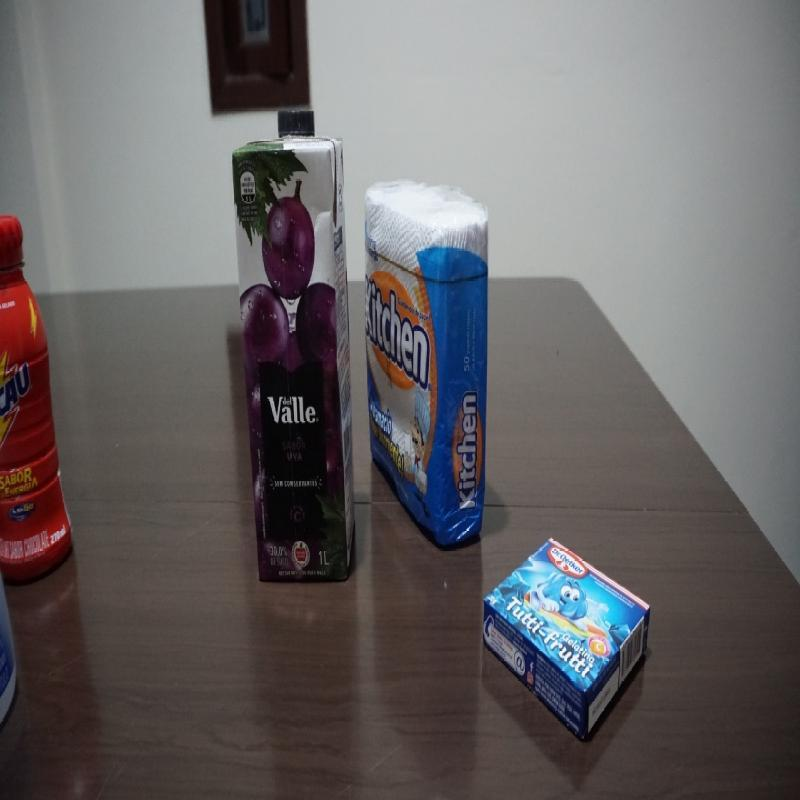Alcohol Bottle: (0, 561, 19, 750)
Chocolate Milk: (1, 213, 76, 590)
Gelatine: (482, 538, 652, 742)
Napkin: (364, 175, 488, 552)
